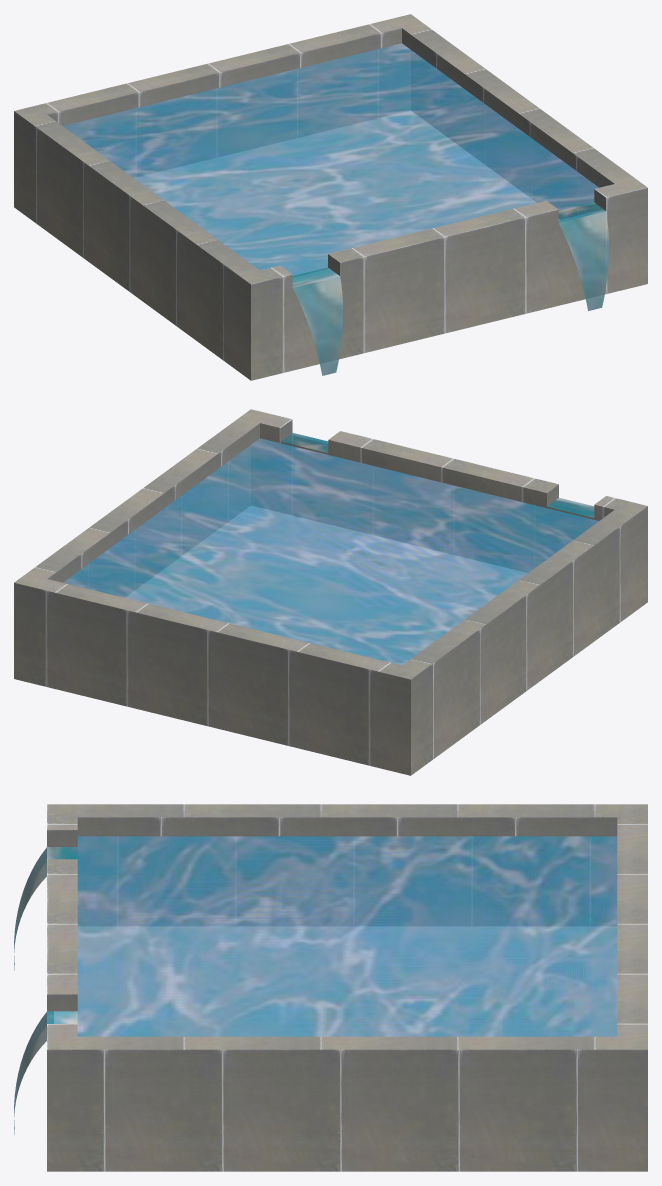
Rendered from fontanna.dae.
The picture shows the model from 3 angles, top to bottom: view 1: azimuth 30°, elevation 25°; view 2: azimuth 150°, elevation 25°; view 3: azimuth 270°, elevation 25°; orthographic projection. The views are drawn at different scales.
Visible parts, largest first — view 1: SketchUp (×5), group_1, group_0; view 2: SketchUp (×5); view 3: SketchUp (×3), group_1, group_0.
Boxes of the visible parts, box(x1,y1,x2,y2) form: SketchUp (×5): box(14, 14, 647, 380); group_1: box(558, 210, 608, 310); group_0: box(293, 276, 343, 375); SketchUp (×5): box(14, 409, 647, 775); SketchUp (×3): box(47, 804, 647, 1171); group_1: box(14, 1011, 53, 1134); group_0: box(14, 847, 46, 970).
Size of the model in its own units: 78.94 by 86.18 by 18.31.
4 materials, 2 textured.
